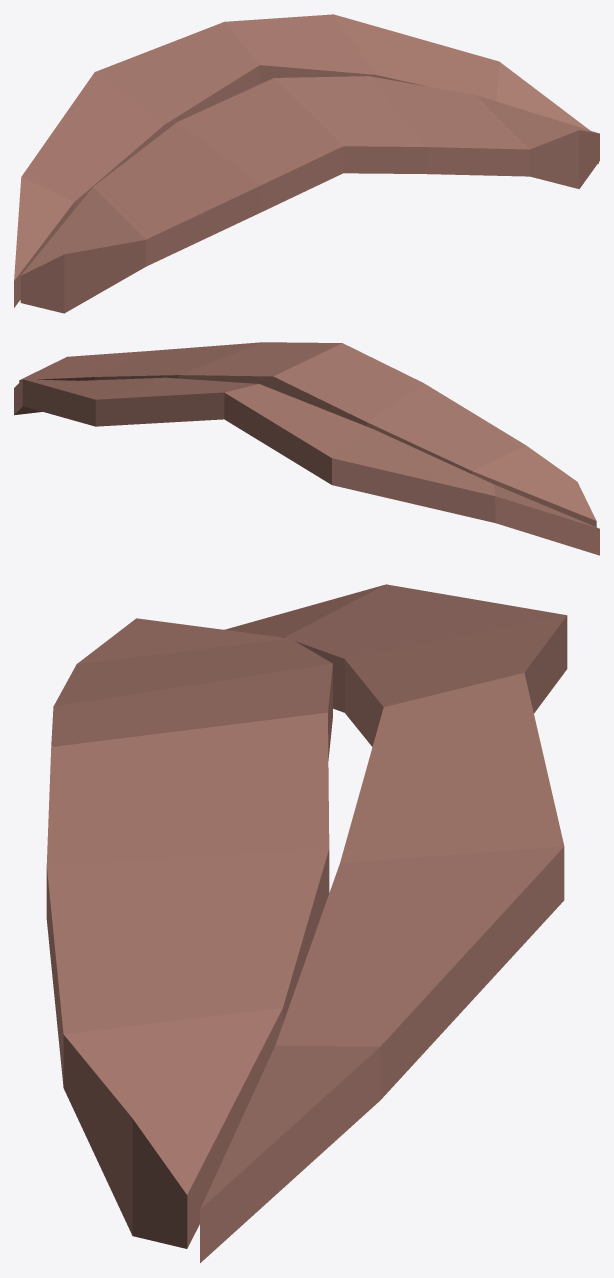
File: Mouth 01.FBX
The picture shows the model from 3 angles, top to bottom: view 1: azimuth 30°, elevation 25°; view 2: azimuth 150°, elevation 25°; view 3: azimuth 270°, elevation 25°; orthographic projection. The views are drawn at different scales.
Parts seen in each view (by area): view 1: Mouth 01; view 2: Mouth 01; view 3: Mouth 01.
Boxes of the visible parts, x1=… form: Mouth 01: x1=14, y1=14, x2=599, y2=313; Mouth 01: x1=14, y1=342, x2=599, y2=555; Mouth 01: x1=46, y1=584, x2=567, y2=1262.
Bounding box in the file's own units: 6.11 × 1.57 × 2.36.
